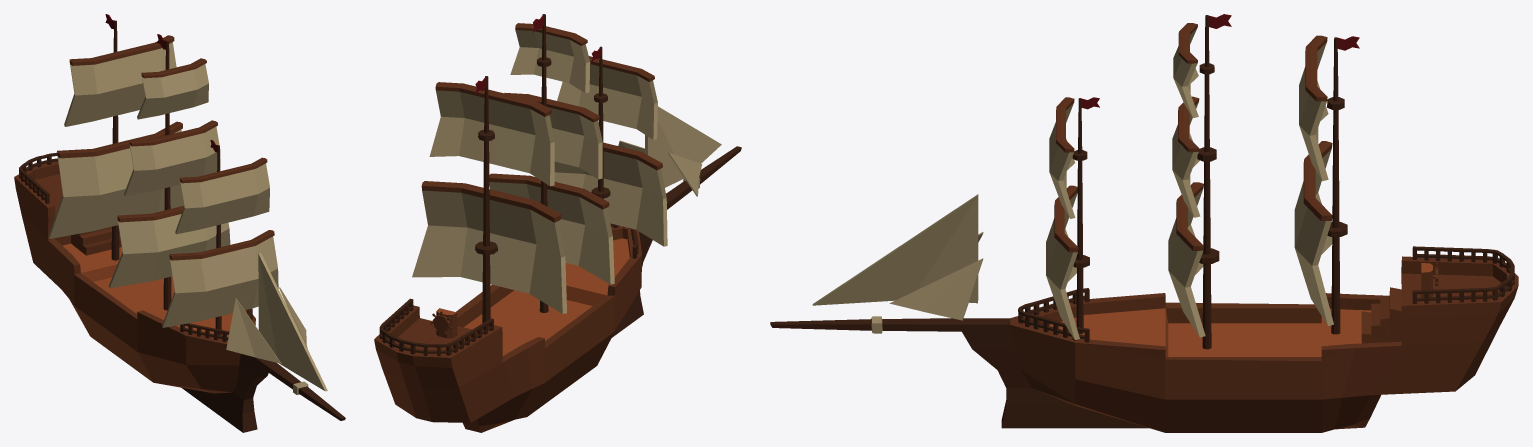
File: Sail ship.obj
The picture shows the model from 3 angles, left to right: view 1: azimuth 30°, elevation 25°; view 2: azimuth 150°, elevation 25°; view 3: azimuth 270°, elevation 25°; orthographic projection. The views are drawn at different scales.
Visible parts, largest first — view 1: BigShip_Cylinder, BackSail_Cylinder.005, MidleSail_Cylinder.001, Front_Sail_Cylinder.004; view 2: BigShip_Cylinder, BackSail_Cylinder.005, MidleSail_Cylinder.001, Front_Sail_Cylinder.004; view 3: BigShip_Cylinder, BackSail_Cylinder.005, MidleSail_Cylinder.001, Front_Sail_Cylinder.004.
Boxes of the visible parts, x1=… form: BigShip_Cylinder: x1=14, y1=14, x2=345, y2=432; BackSail_Cylinder.005: x1=48, y1=35, x2=183, y2=238; MidleSail_Cylinder.001: x1=109, y1=58, x2=230, y2=288; Front_Sail_Cylinder.004: x1=162, y1=157, x2=278, y2=327; BigShip_Cylinder: x1=374, y1=14, x2=741, y2=432; BackSail_Cylinder.005: x1=412, y1=82, x2=566, y2=313; MidleSail_Cylinder.001: x1=489, y1=23, x2=614, y2=284; Front_Sail_Cylinder.004: x1=554, y1=56, x2=667, y2=246; BigShip_Cylinder: x1=770, y1=14, x2=1518, y2=432; BackSail_Cylinder.005: x1=1294, y1=35, x2=1333, y2=325; MidleSail_Cylinder.001: x1=1168, y1=23, x2=1205, y2=337; Front_Sail_Cylinder.004: x1=1046, y1=97, x2=1079, y2=339.
Size of the model in its own units: 1.7 by 3.85 by 6.38.
